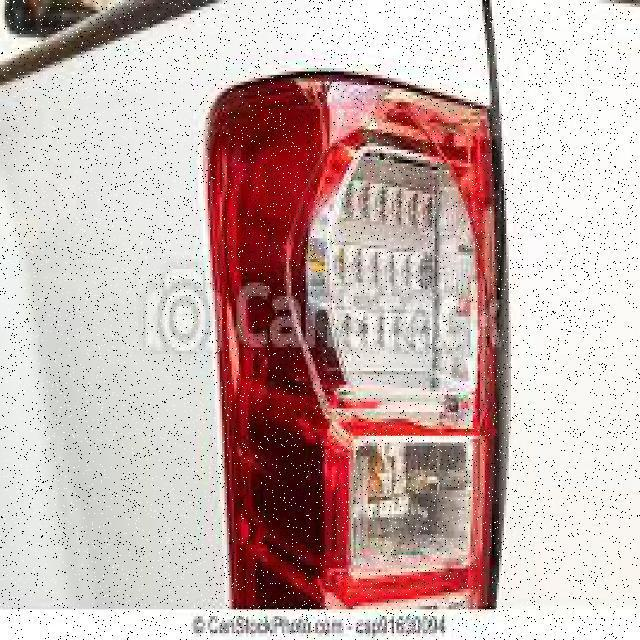car damage: (196, 61, 500, 603)
